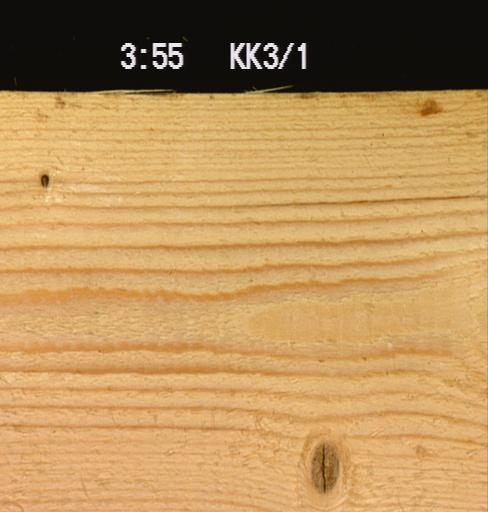dry_knot: (38, 172, 49, 186)
sound_knot: (307, 440, 341, 492)
